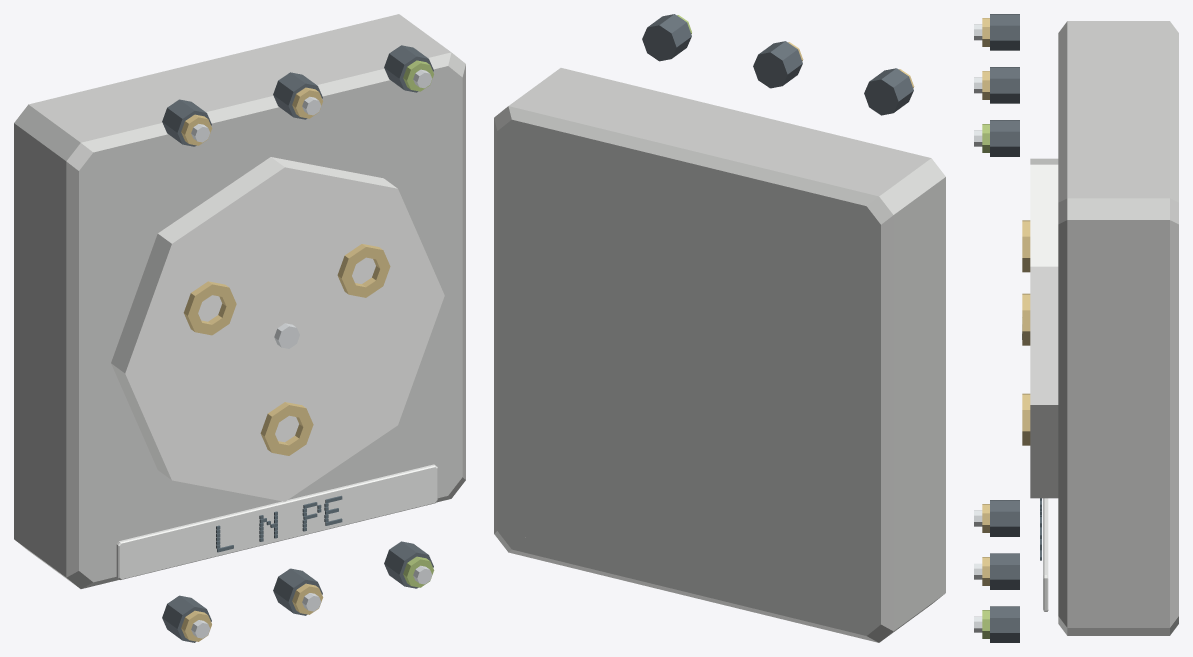
File: socketOutlet.glb
The picture shows the model from 3 angles, left to right: view 1: azimuth 30°, elevation 25°; view 2: azimuth 150°, elevation 25°; view 3: azimuth 270°, elevation 25°; orthographic projection. The views are drawn at different scales.
Visible parts, largest first — view 1: socketOutlet-board; view 2: socketOutlet-board; view 3: socketOutlet-board.
Part boxes in pixels (left/top/right/bottom): socketOutlet-board: left=14, top=14, right=465, bottom=642; socketOutlet-board: left=494, top=14, right=945, bottom=642; socketOutlet-board: left=974, top=14, right=1178, bottom=642.
Size of the model in its own units: 2.21 by 2.82 by 1.
